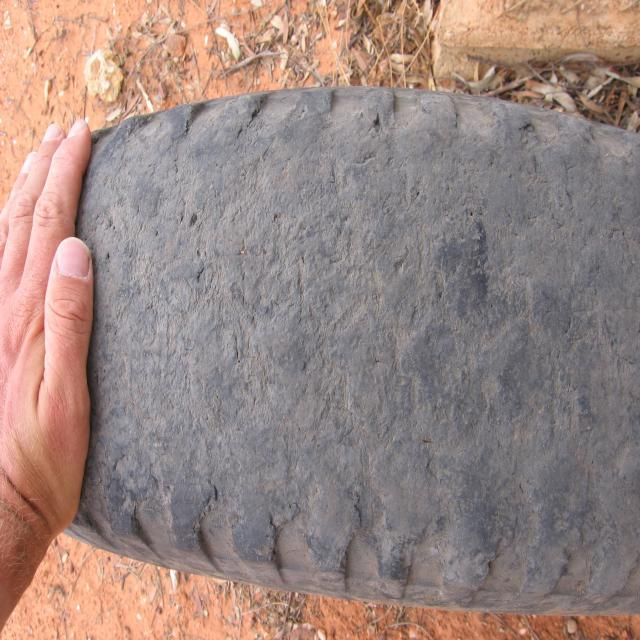Flat spots: (106, 128, 639, 525)
